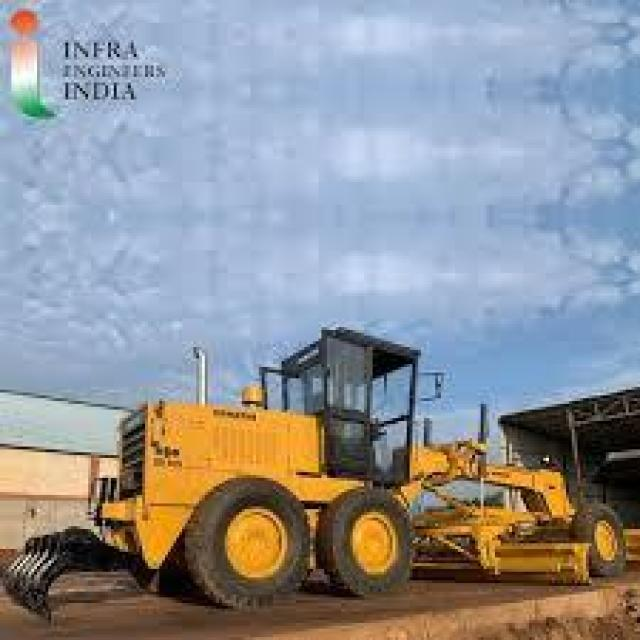Grader: (6, 318, 637, 614)
